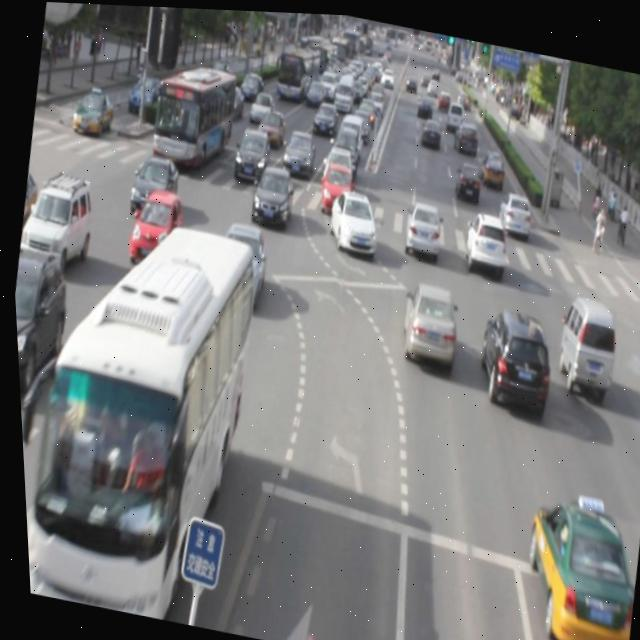car: (511, 486, 640, 640), (10, 245, 75, 401), (471, 299, 554, 405), (392, 272, 462, 370), (210, 217, 270, 309), (124, 183, 187, 266), (320, 184, 382, 256), (125, 150, 181, 221), (245, 160, 294, 225), (458, 205, 507, 269), (399, 197, 442, 252)
truck: (549, 286, 617, 390)
van: (8, 201, 268, 630)
